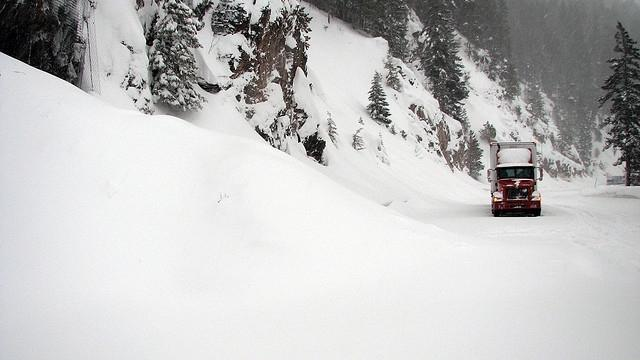truck: (488, 142, 544, 216)
